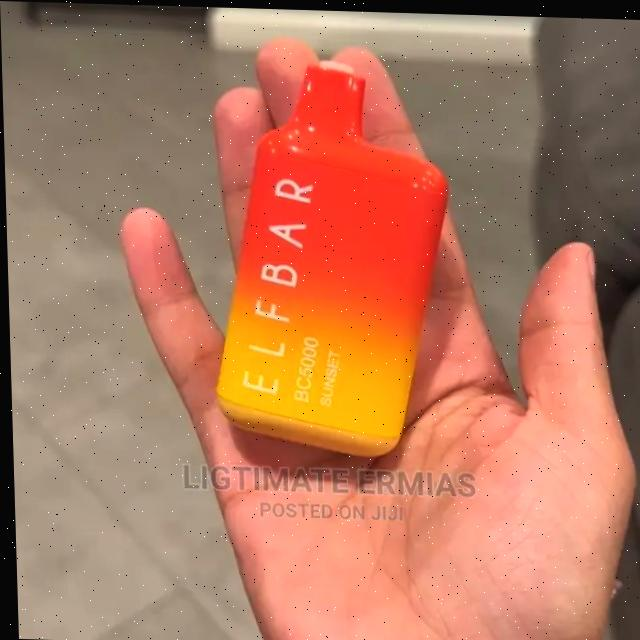vape: (205, 60, 454, 459)
